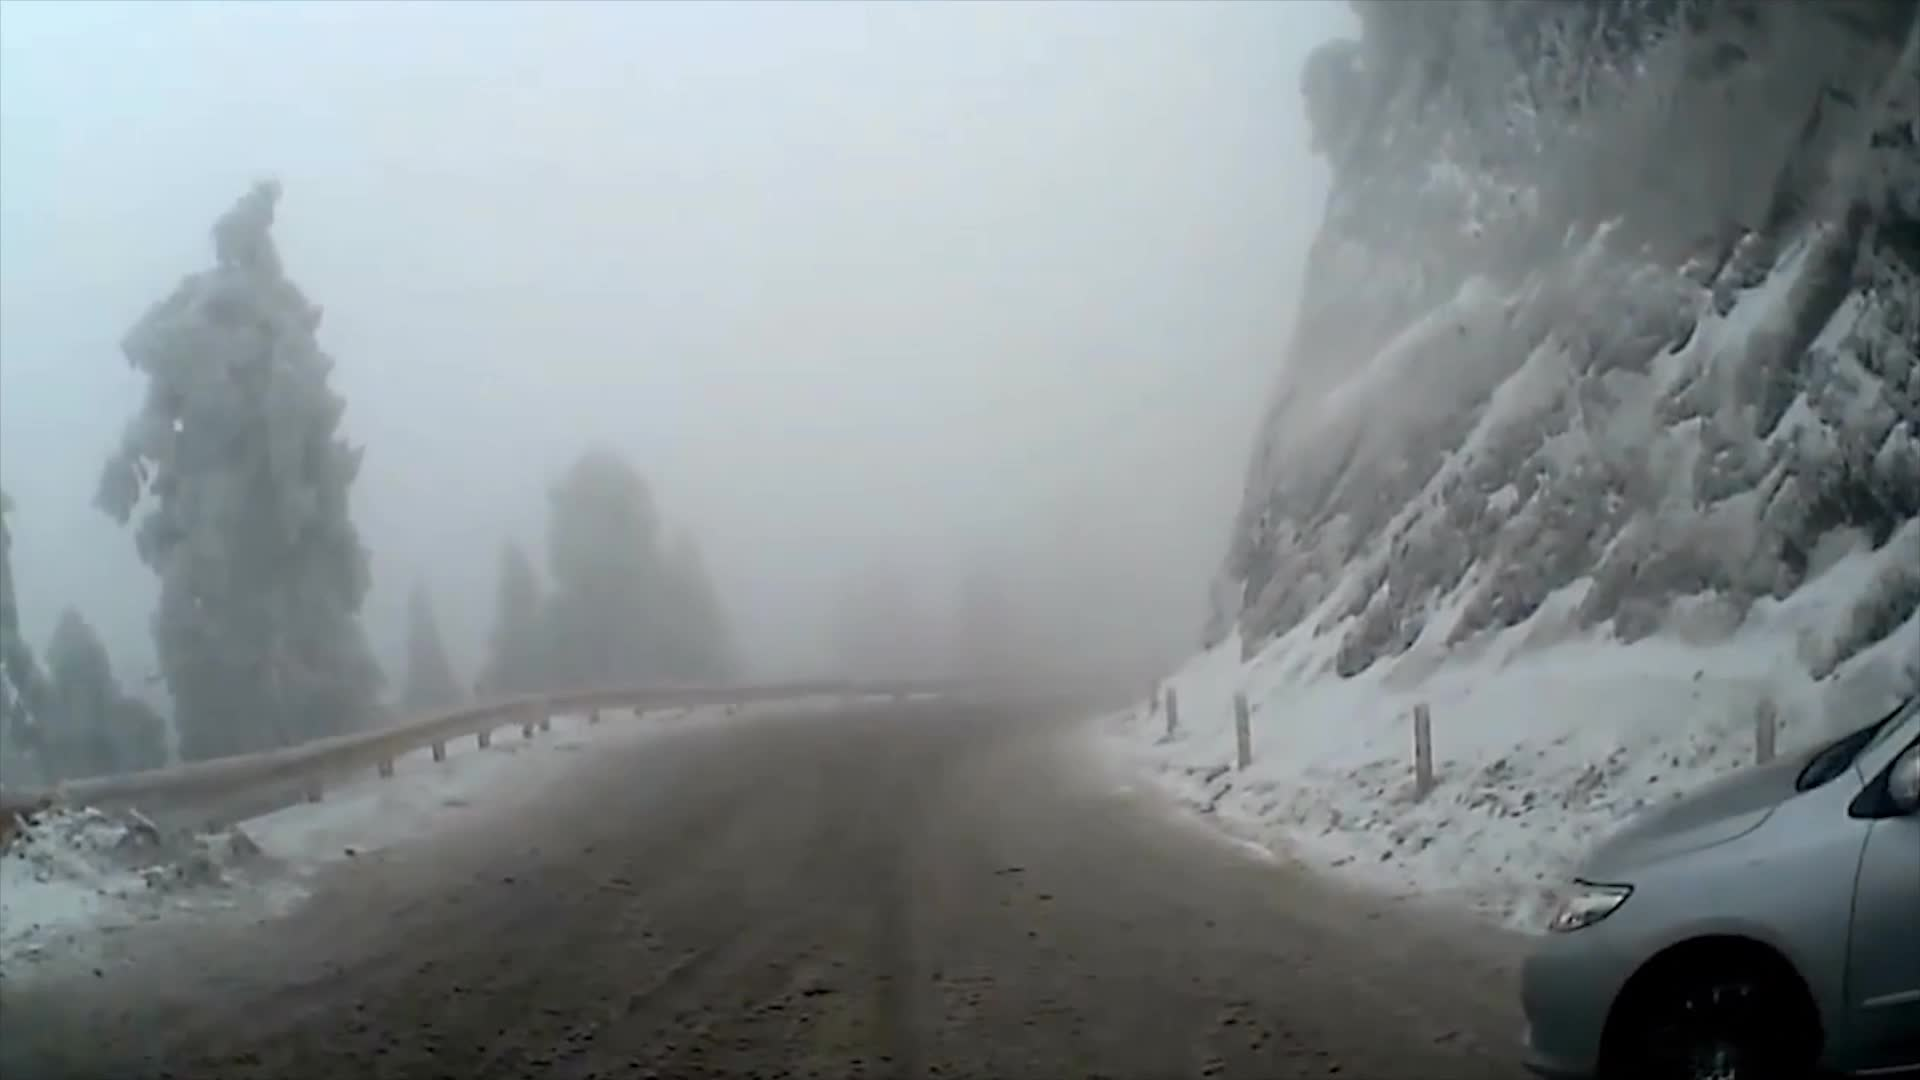vehicle: (1518, 683, 1920, 1080)
